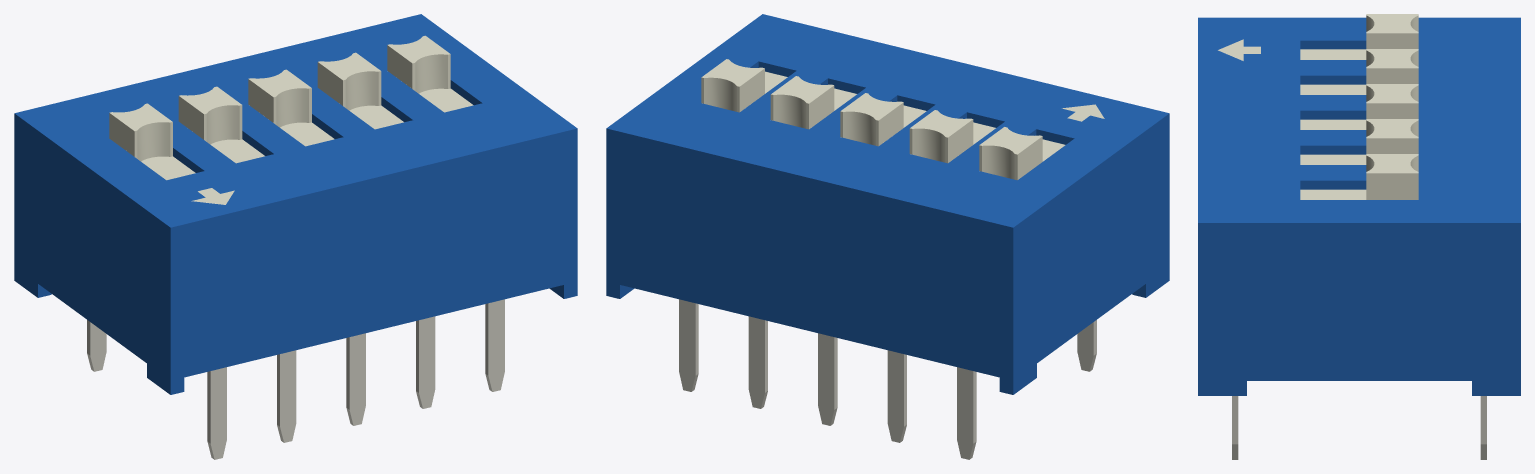
Rendered from kc-sw_dip_spstx05_slide_9.78x14.88mm_w7.62mm_p2.54mm.glb.
3 renders of one model, left to right at view 1: azimuth 30°, elevation 25°; view 2: azimuth 150°, elevation 25°; view 3: azimuth 270°, elevation 25°, orthographic. The views are drawn at different scales.
Visible parts, largest first — view 1: 0_0.16666666666666666_0.5_0, 0.75_0.75_0.6666666666666666_0, 0.6666666666666666_0.6666666666666666_0.5833333333333334_0.8; view 2: 0_0.16666666666666666_0.5_0, 0.75_0.75_0.6666666666666666_0, 0.6666666666666666_0.6666666666666666_0.5833333333333334_0.8; view 3: 0_0.16666666666666666_0.5_0, 0.75_0.75_0.6666666666666666_0, 0.6666666666666666_0.6666666666666666_0.5833333333333334_0.8.
Boxes of the visible parts, x1,y1,x2,y2 form: 0_0.16666666666666666_0.5_0: (14,14,577,394); 0.75_0.75_0.6666666666666666_0: (109,35,473,204); 0.6666666666666666_0.6666666666666666_0.5833333333333334_0.8: (87,299,504,459); 0_0.16666666666666666_0.5_0: (606,14,1169,394); 0.75_0.75_0.6666666666666666_0: (701,59,1104,180); 0.6666666666666666_0.6666666666666666_0.5833333333333334_0.8: (679,299,1096,459); 0_0.16666666666666666_0.5_0: (1198,17,1520,395); 0.75_0.75_0.6666666666666666_0: (1218,14,1418,199); 0.6666666666666666_0.6666666666666666_0.5833333333333334_0.8: (1232,396,1486,459).
Bounding box in the file's own units: 1.49 × 0.995 × 0.9901.
